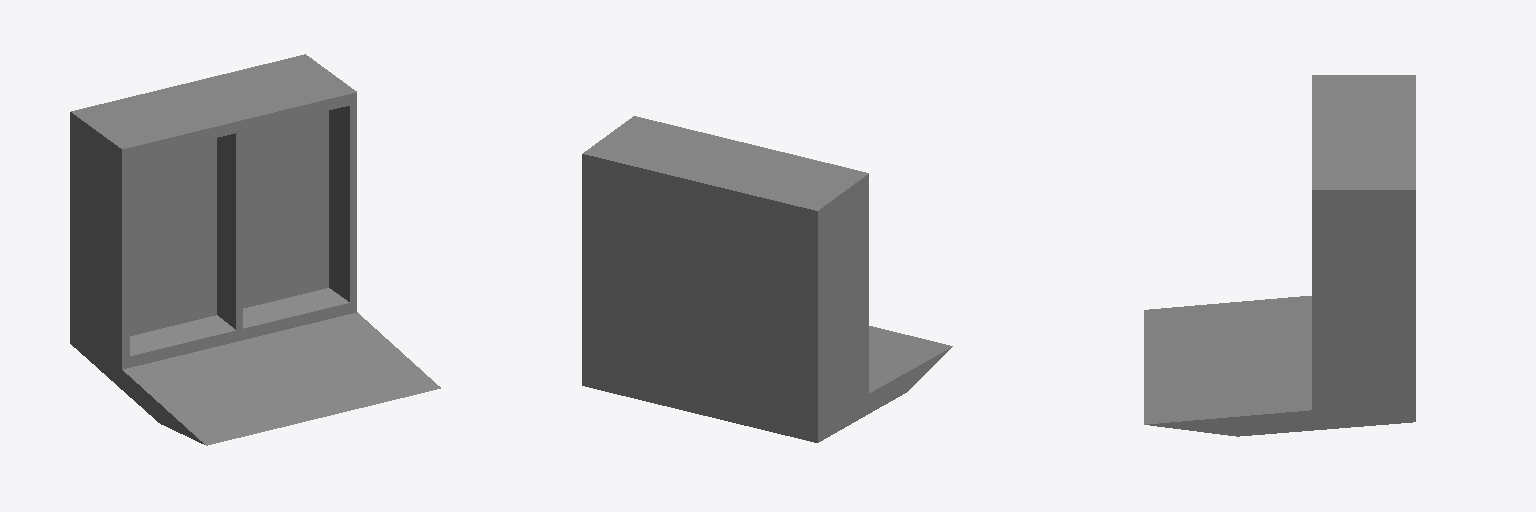
File: window_double.obj
The picture shows the model from 3 angles: view 1: azimuth 30°, elevation 25°; view 2: azimuth 150°, elevation 25°; view 3: azimuth 270°, elevation 25°; orthographic projection.
Visible parts, largest first — view 1: raam3; view 2: raam3; view 3: raam3.
Part boxes in pixels (x1,y1,x2,y2): raam3: (70, 54, 440, 445); raam3: (582, 116, 952, 442); raam3: (1144, 75, 1415, 436).
Size of the model in its own units: 12.79 by 12.81 by 12.81.